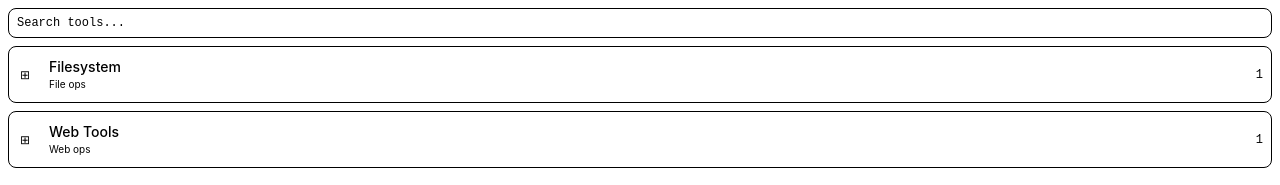
Scenario: ToolExplorer › shows empty state when no matches
In the field with placeholder "Search tools...": (640, 23) 8,8 -> 1272,38, type "zzzzz"
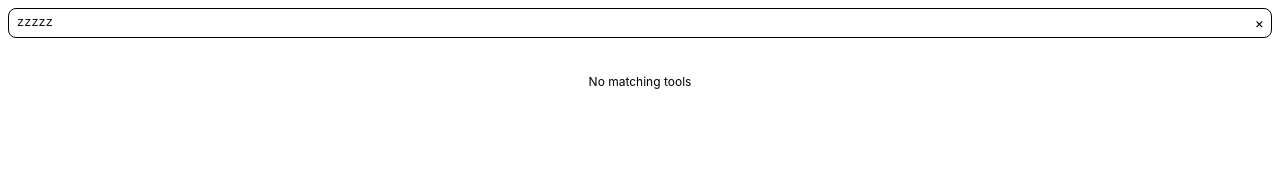
Expected: the text "No matching tools" is shown, 589,74 -> 691,90
